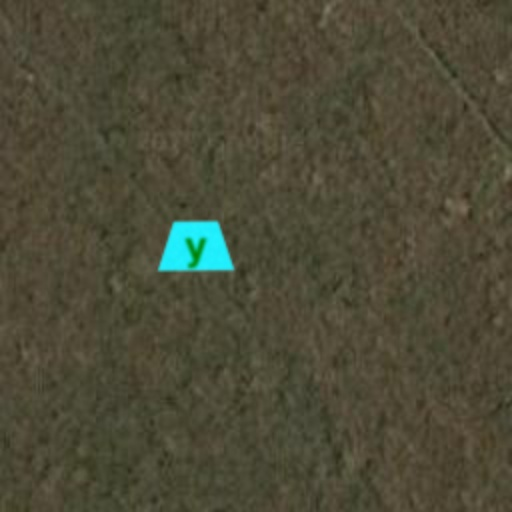trapezoid: (156, 206, 236, 286)
